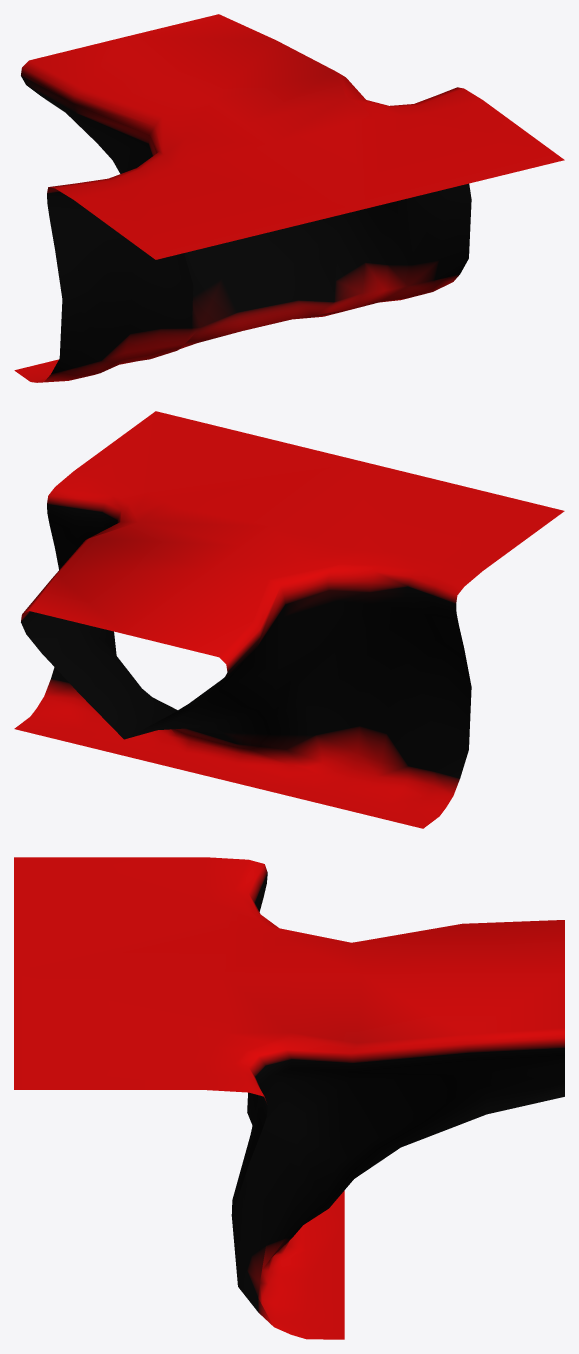
File: CrossingCliff02D 1M Background.fbx
3 renders of one model, top to bottom at view 1: azimuth 30°, elevation 25°; view 2: azimuth 150°, elevation 25°; view 3: azimuth 270°, elevation 25°, orthographic. The views are drawn at different scales.
Parts seen in each view (by area): view 1: CrossingCliff02D 1M Background; view 2: CrossingCliff02D 1M Background; view 3: CrossingCliff02D 1M Background.
Boxes of the visible parts, left/top/right/bottom form: CrossingCliff02D 1M Background: left=14, top=14, right=564, bottom=382; CrossingCliff02D 1M Background: left=14, top=411, right=564, bottom=828; CrossingCliff02D 1M Background: left=14, top=857, right=564, bottom=1339.
Size of the model in its own units: 2 by 1.01 by 2.
